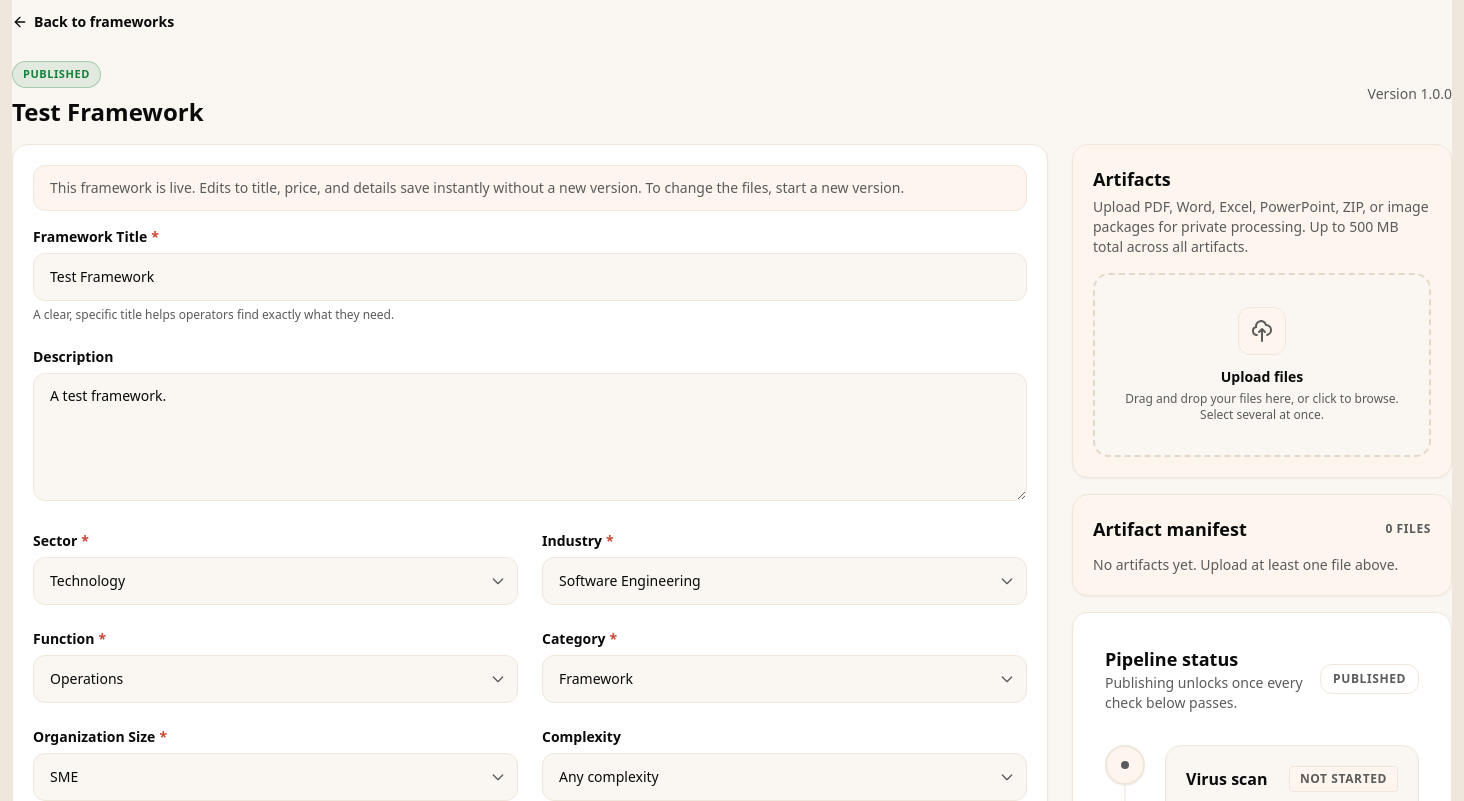
Test: FrameworkEditor › enables Save changes only while the details differ from what is saved
Replace the text in the field labelled "Framework Title" with "Renamed Framework" at (530, 276), box [33,252,1027,300]
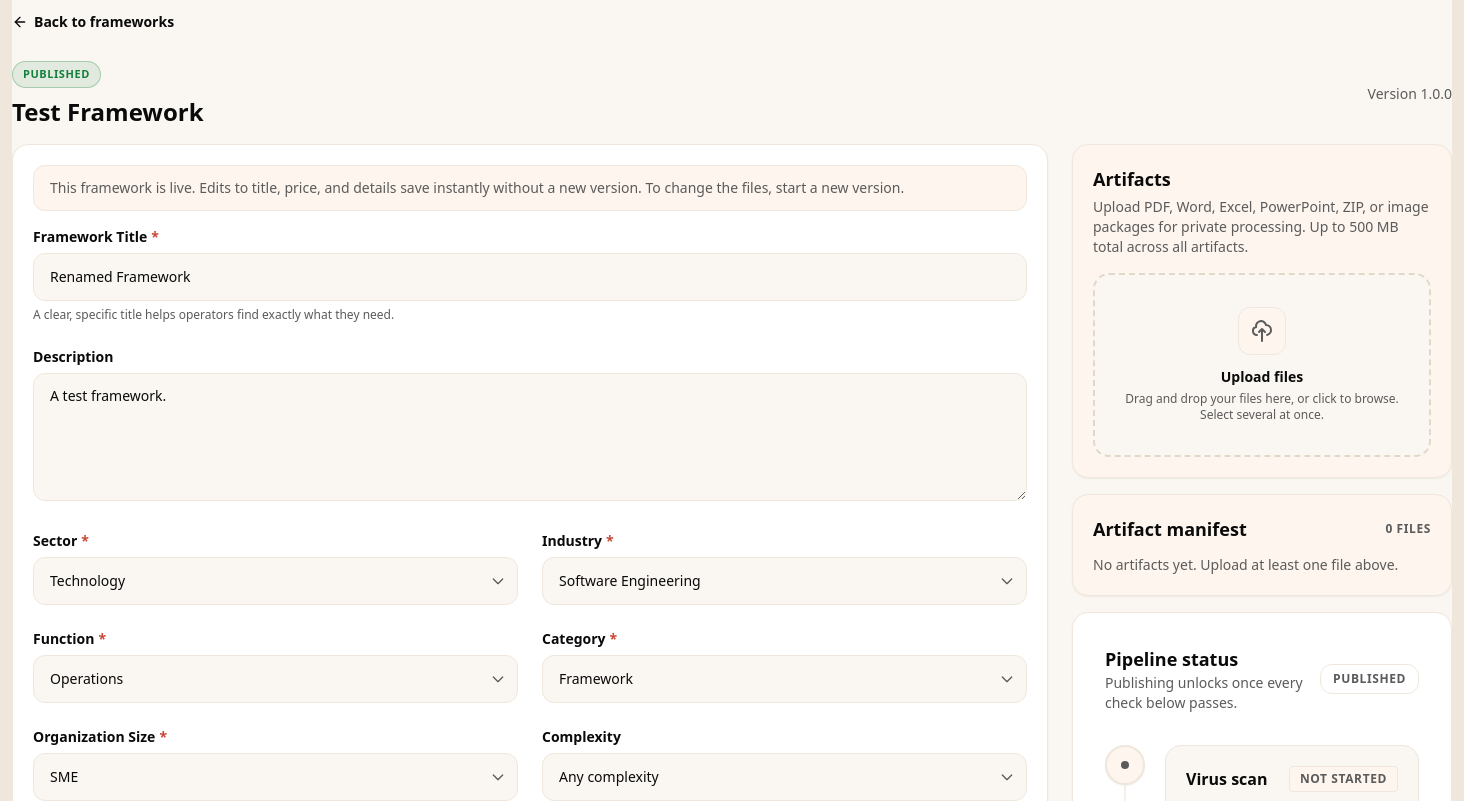
Typing the saved value back is not a change.
Replace the text in the field labelled "Framework Title" with "Test Framework" at (530, 276), box [33,252,1027,300]
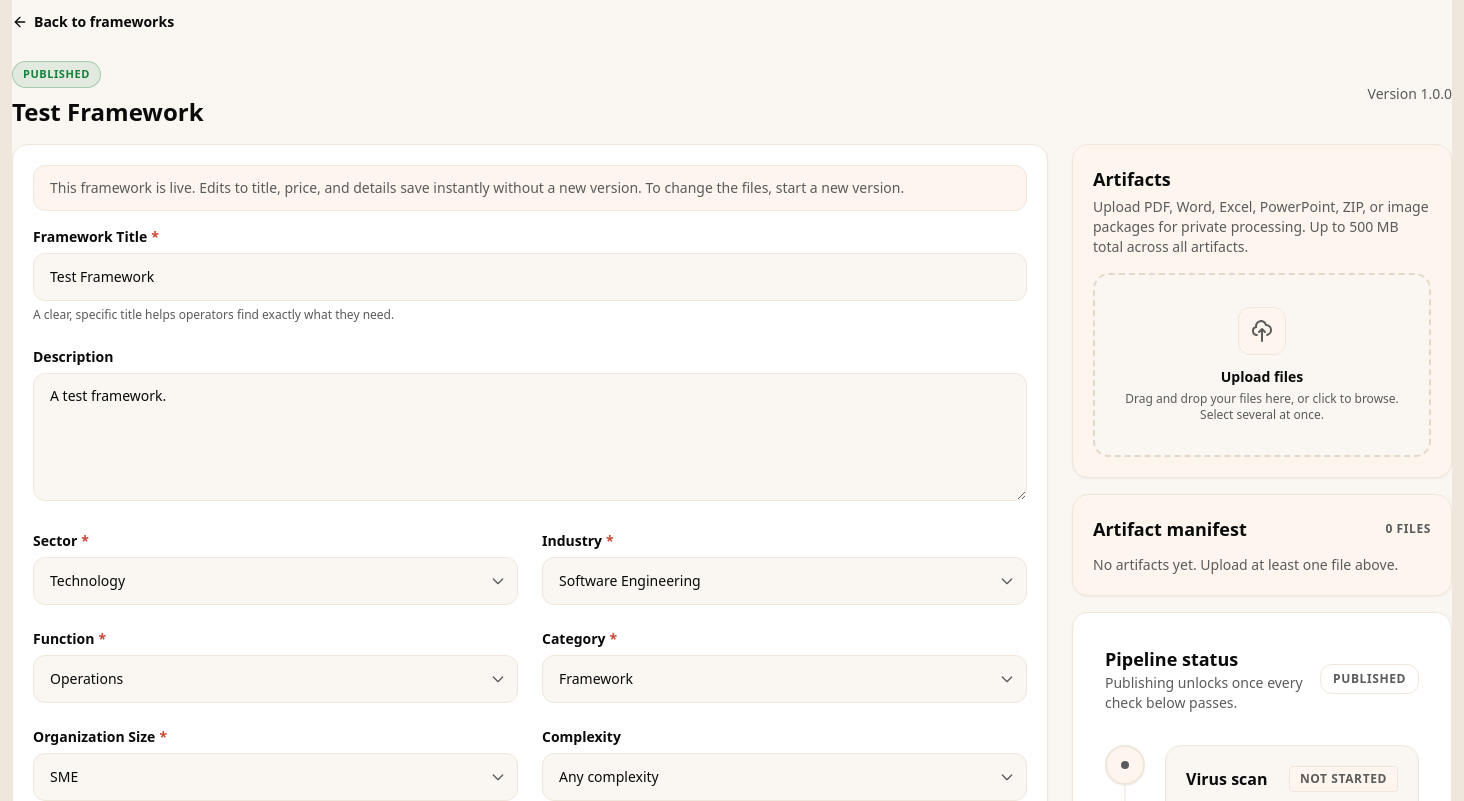
Replace the text in the field labelled "Framework Title" with "Renamed Framework" at (530, 276), box [33,252,1027,300]
(page scrolled)
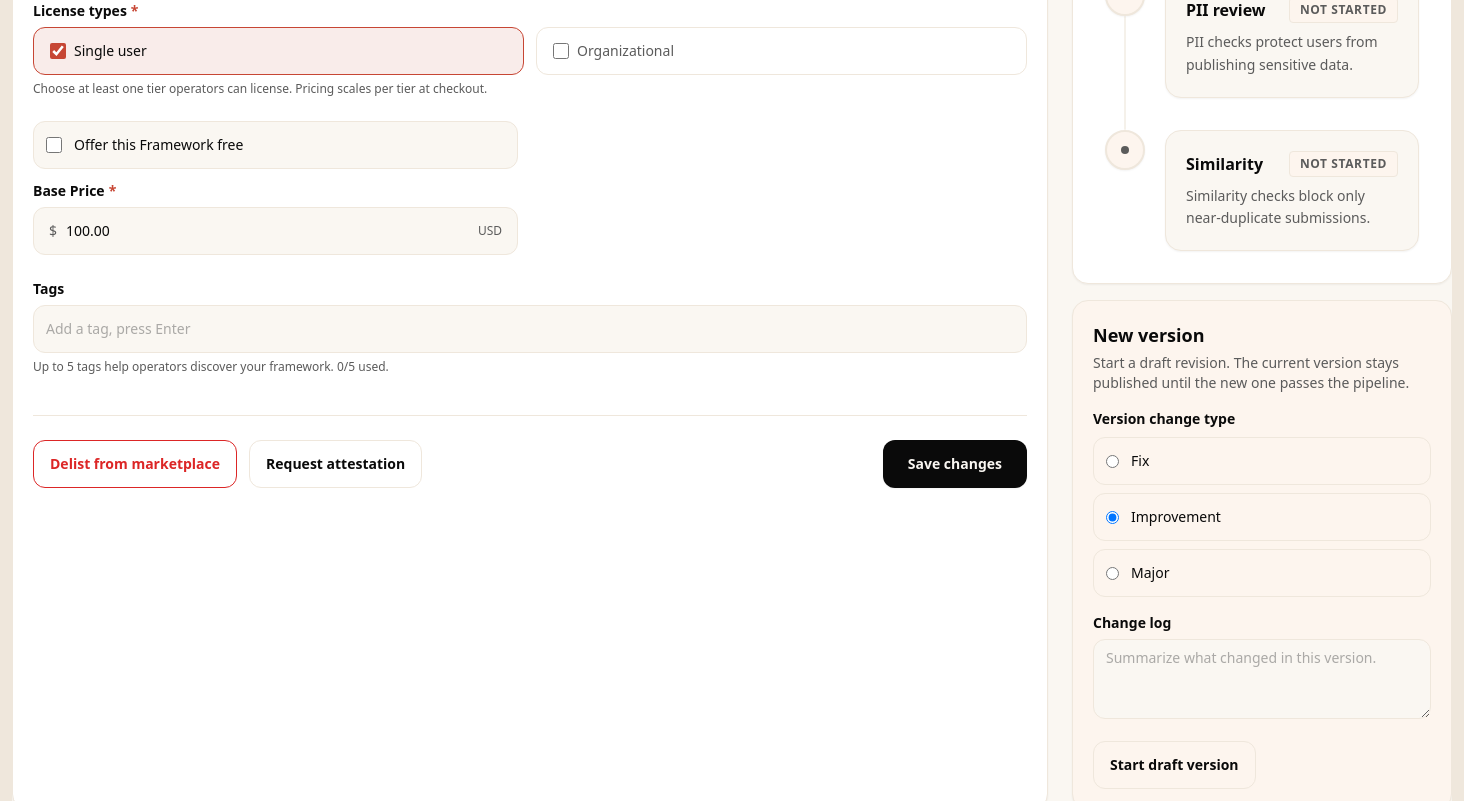
Click the button "Save changes" at (955, 464), box [883,440,1027,488]
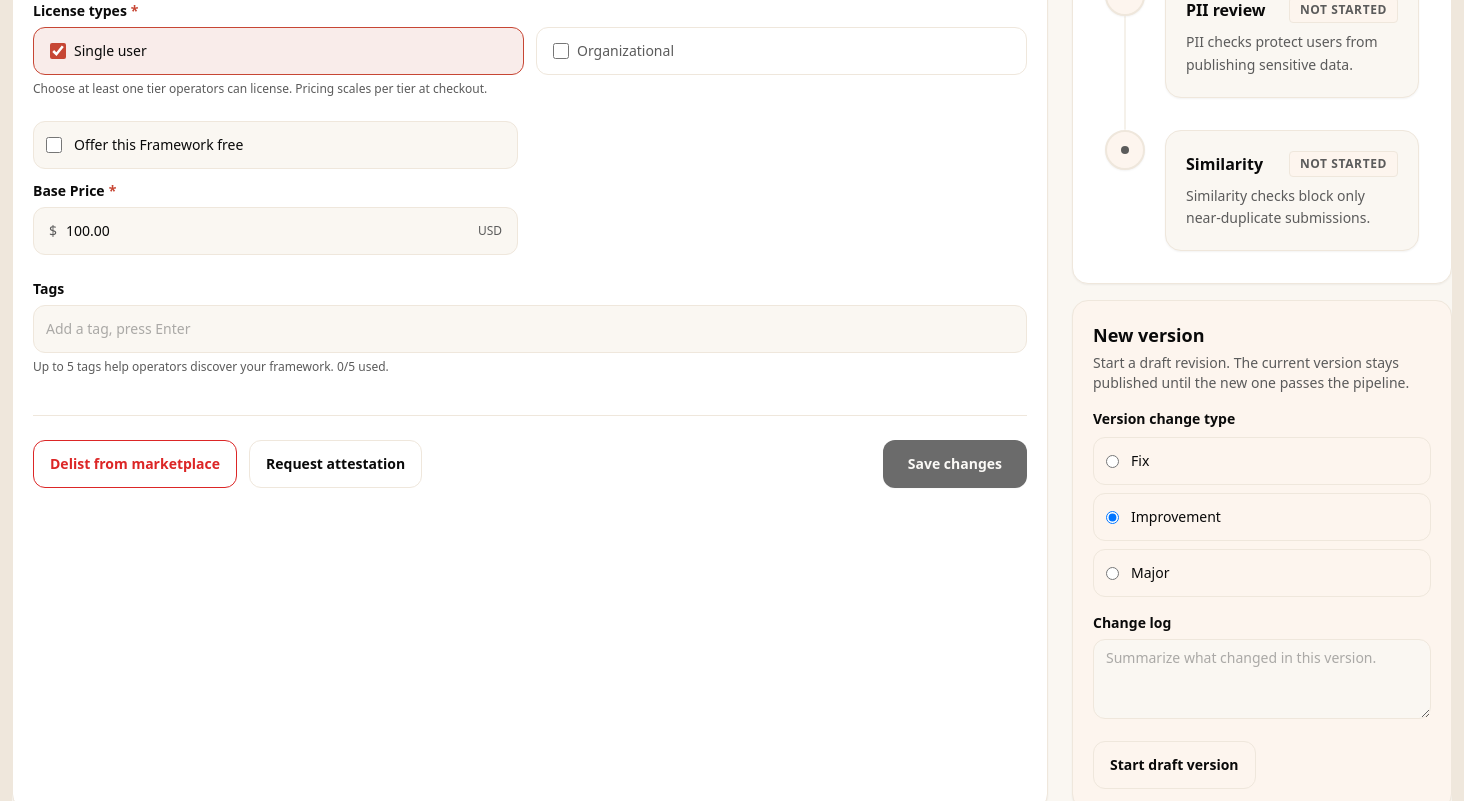
Expected: the button "Save changes" is disabled, [883,440,1027,488]
